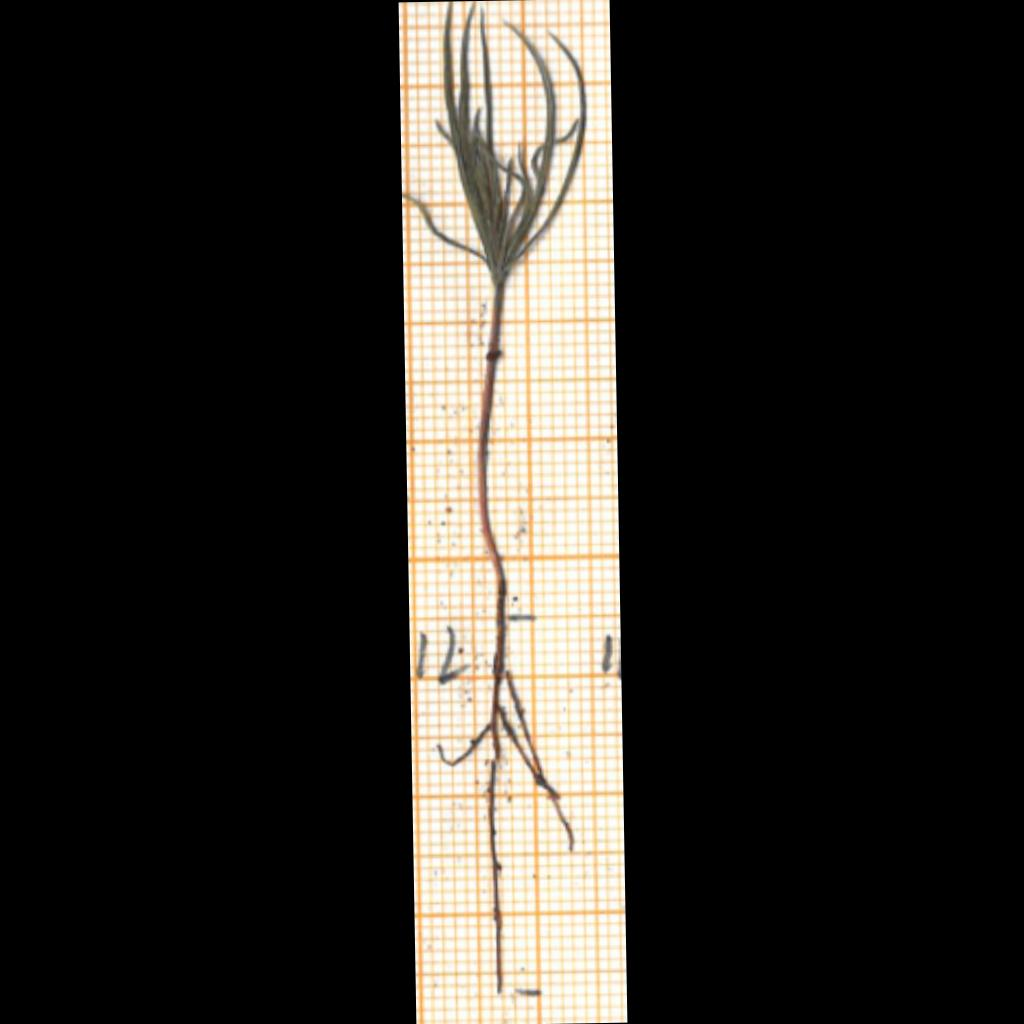flowerPinus: (402, 1, 586, 285)
rootPinus: (440, 628, 573, 993)
stemPinus: (478, 288, 505, 621)
